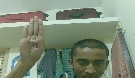hand: (18, 15, 46, 67)
